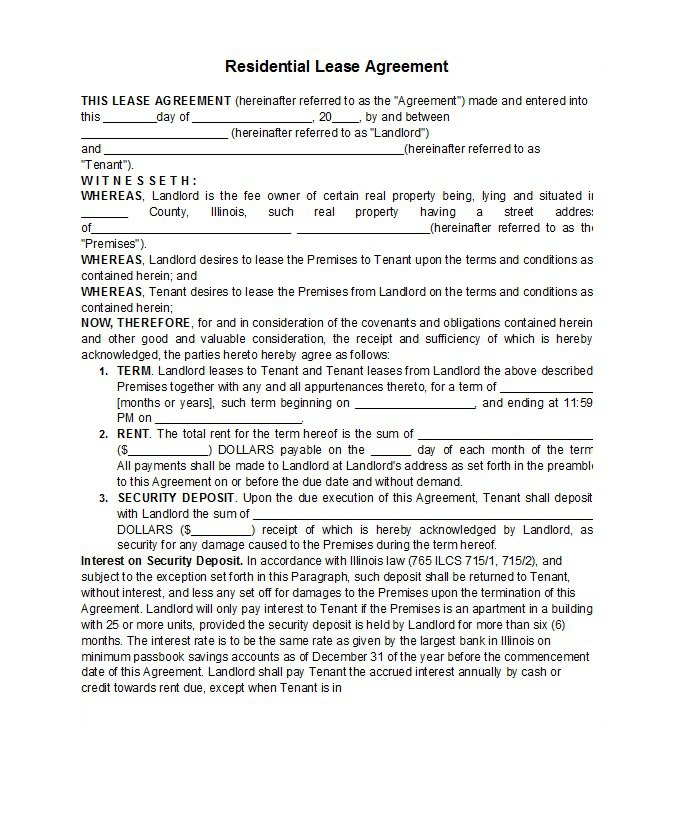textline: (252, 504, 598, 523), (102, 141, 405, 160), (414, 423, 597, 445), (93, 219, 292, 239), (293, 218, 430, 243), (153, 410, 308, 427), (77, 124, 228, 141), (352, 395, 480, 413), (189, 109, 314, 126), (499, 377, 596, 397), (128, 439, 208, 460), (191, 521, 251, 539), (101, 108, 155, 125), (369, 441, 412, 459), (77, 206, 128, 220), (332, 106, 362, 127)
